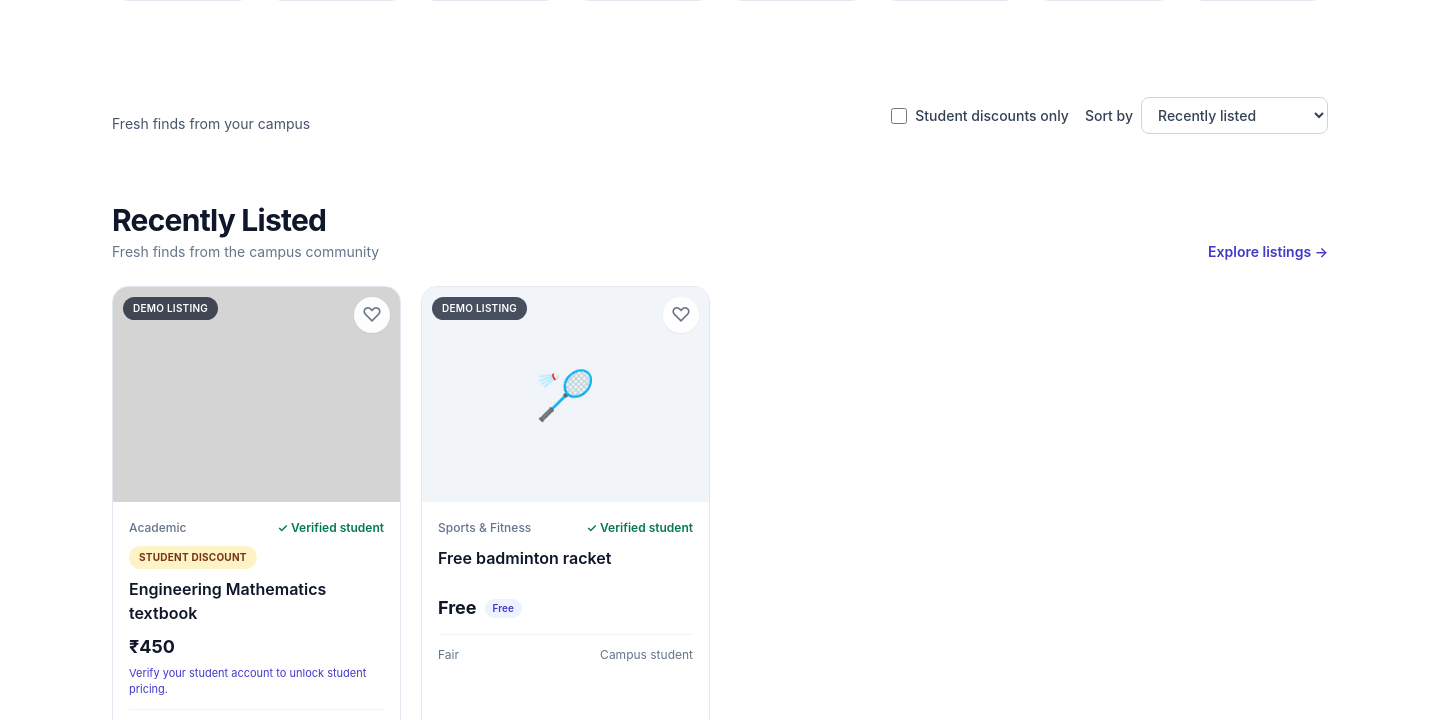
Scenario: Home marketplace › saves wishlist changes through the API and reloads them from the server
The image size is (1440, 720).
Later steps or results of the test are not shown.
(page scrolled)
Expected: the heading "Recently Listed" is shown, [112,202,326,238]
Click the button named "Add Free badminton racket to wishlist" at [681, 315], box [663,297,699,333]
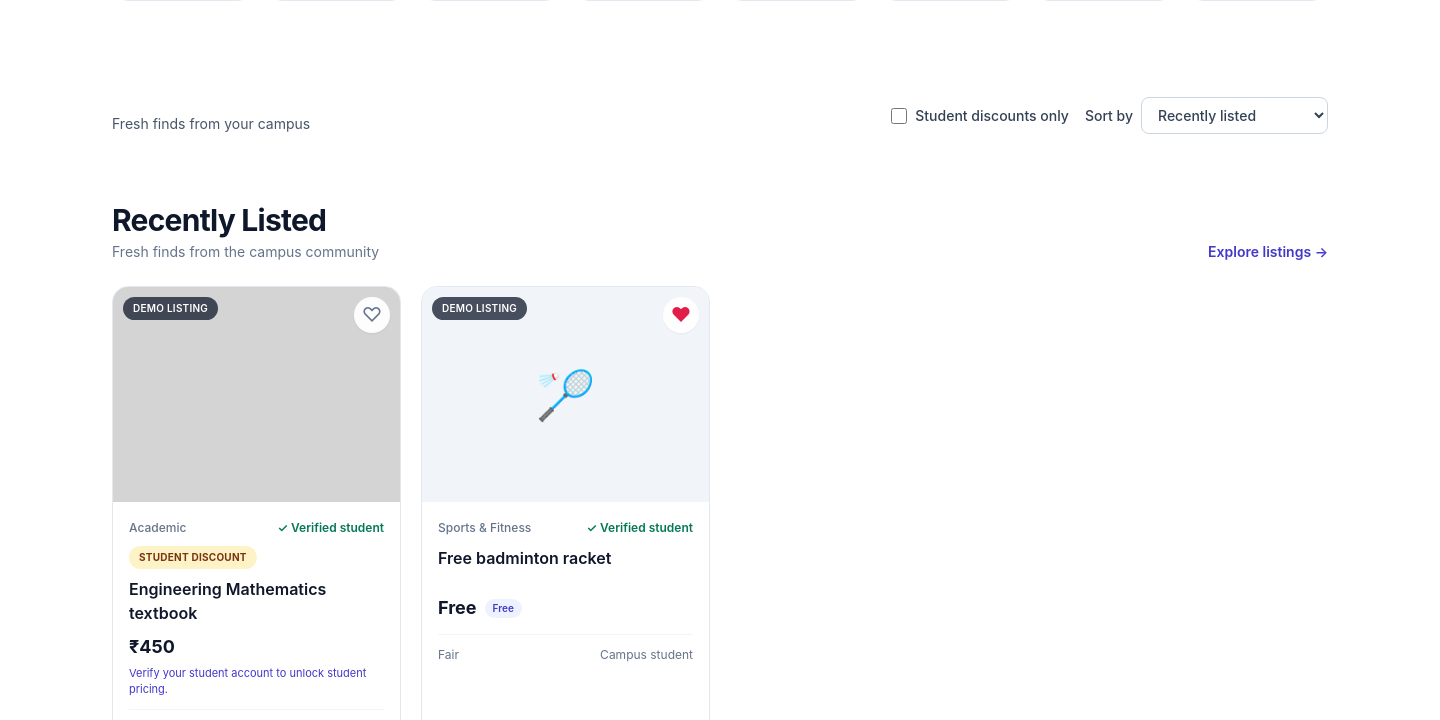
Expected: the button named "Remove Free badminton racket from wishlist" is pressed, [663,297,699,333]
